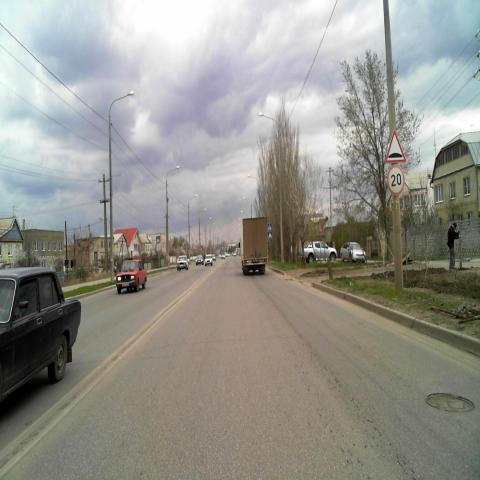1_17: (384, 128, 406, 165)
3_24: (387, 165, 405, 196)
5_19_1: (156, 235, 160, 242), (268, 223, 272, 230)
